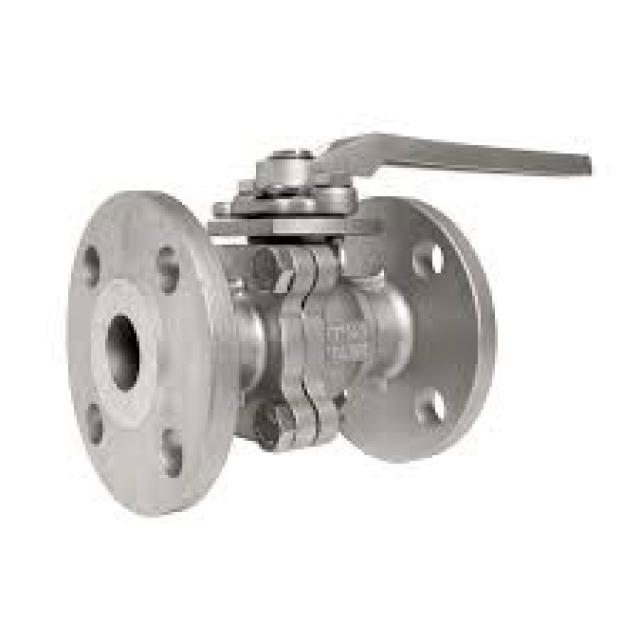Lever Handle Valve Threaded: (208, 110, 613, 253)
